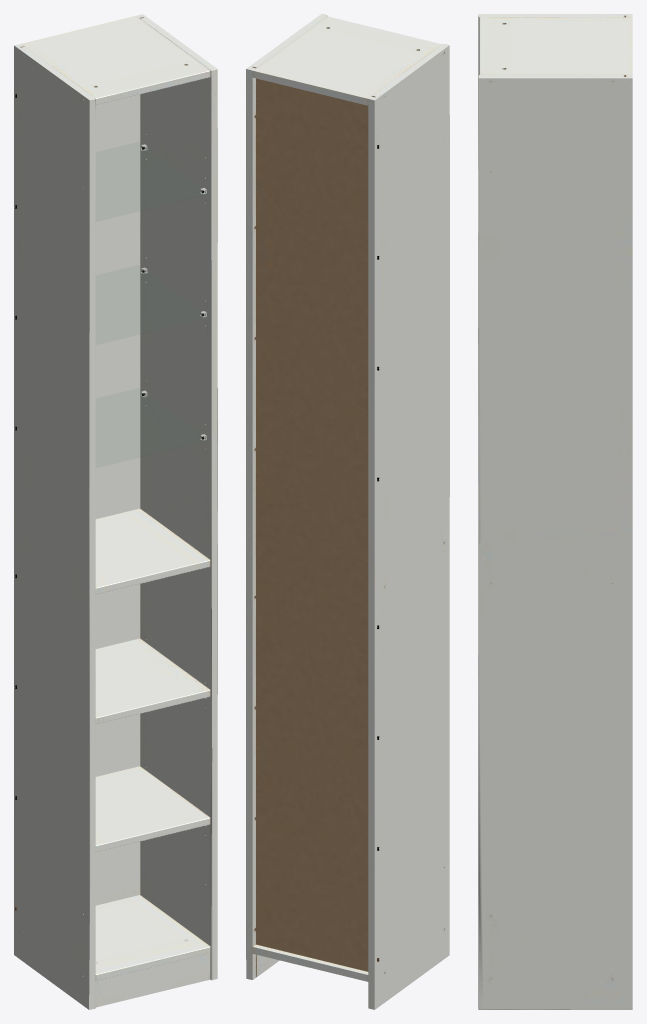
The model's file is 24 - PAX Add-on mid-unit - white 35x35x236 cm.glb.
3 renders of one model, left to right at view 1: azimuth 30°, elevation 25°; view 2: azimuth 150°, elevation 25°; view 3: azimuth 270°, elevation 25°, orthographic. The views are drawn at different scales.
Parts seen in each view (by area): view 1: 10603825-PAX001; view 2: 10603825-PAX001; view 3: 10603825-PAX001.
Boxes of the visible parts, left/top/right/bottom form: 10603825-PAX001: left=14, top=14, right=217, bottom=1009; 10603825-PAX001: left=246, top=14, right=449, bottom=1009; 10603825-PAX001: left=478, top=14, right=632, bottom=1009.
Bounding box in the file's own units: 0.3538 × 2.36 × 0.3552.
2 materials, 2 textured.
